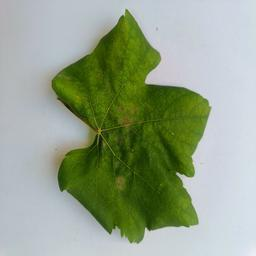Powdery-Mildew: (103, 93, 140, 127), (185, 101, 211, 128), (144, 50, 161, 67), (73, 90, 89, 107), (112, 175, 128, 192)
